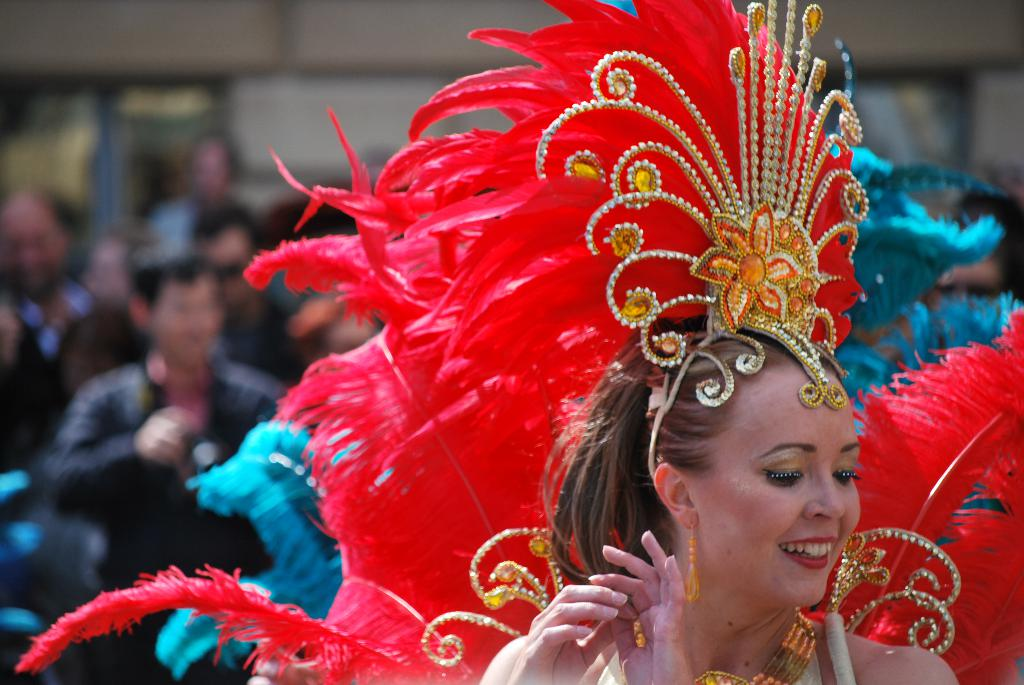Human_hand: (588, 530, 693, 684), (509, 584, 628, 684)
